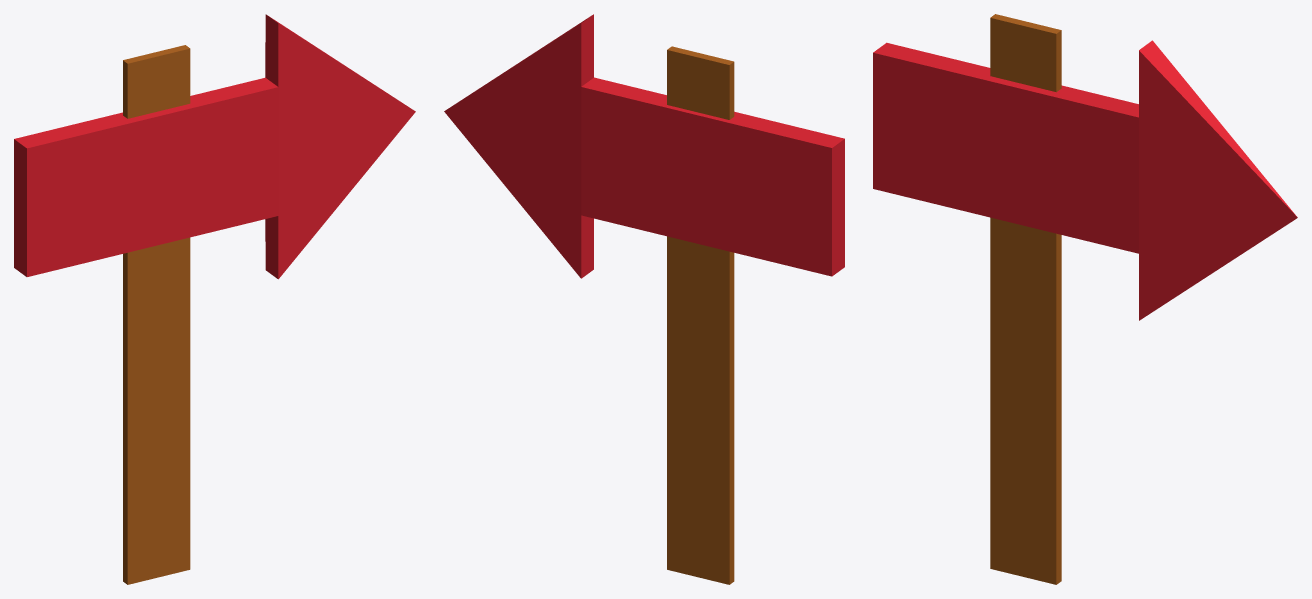
Rendered from sign.glb.
The picture shows the model from 3 angles, left to right: view 1: azimuth 30°, elevation 25°; view 2: azimuth 150°, elevation 25°; view 3: azimuth 330°, elevation 25°; orthographic projection. The views are drawn at different scales.
Parts seen in each view (by area): view 1: Cube.001; view 2: Cube.001; view 3: Cube.001.
Part boxes in pixels (x1=…): Cube.001: x1=14, y1=14, x2=415, y2=584; Cube.001: x1=444, y1=14, x2=844, y2=584; Cube.001: x1=873, y1=14, x2=1297, y2=584.
Bounding box in the file's own units: 9.17 × 11.74 × 0.5188.
